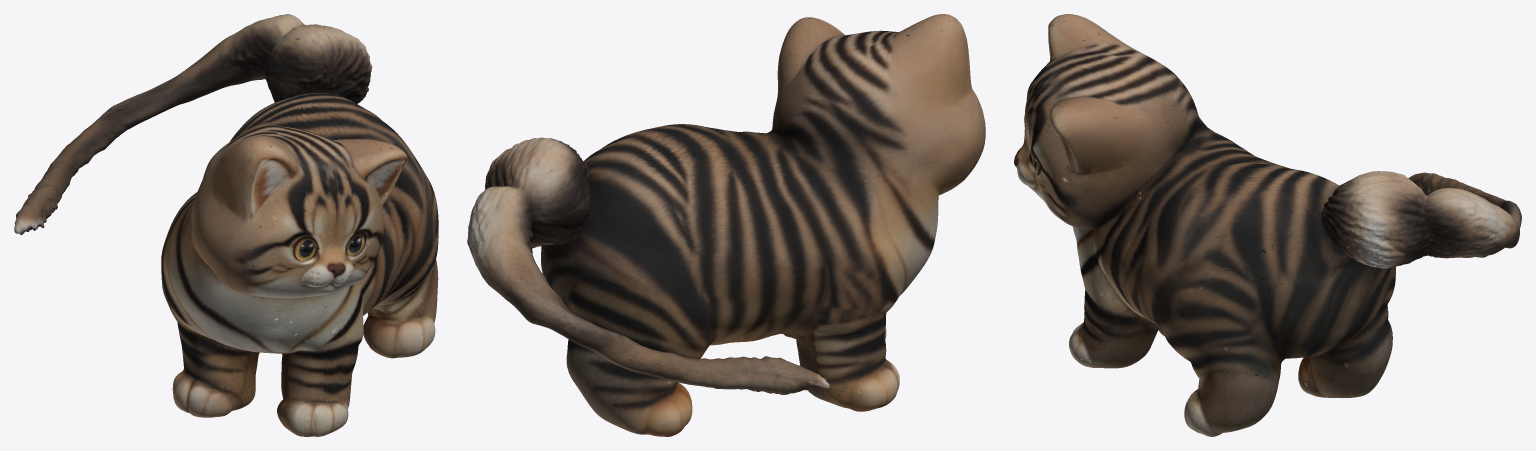
File: cat2.glb
The picture shows the model from 3 angles, left to right: view 1: azimuth 30°, elevation 25°; view 2: azimuth 150°, elevation 25°; view 3: azimuth 270°, elevation 25°; orthographic projection. The views are drawn at different scales.
Size of the model in its own units: 1.48 by 1.36 by 2.
Materials: 1 (1 with a texture image).
